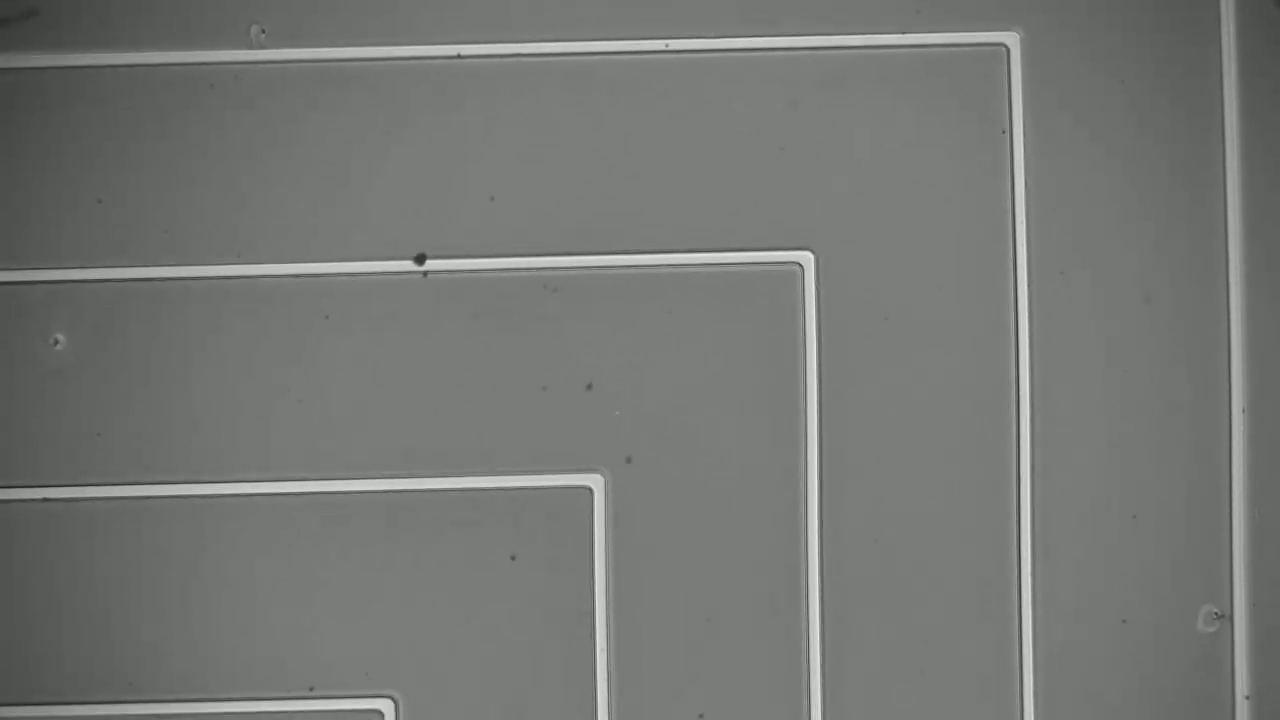stains_enbedded: (404, 247, 438, 283)
